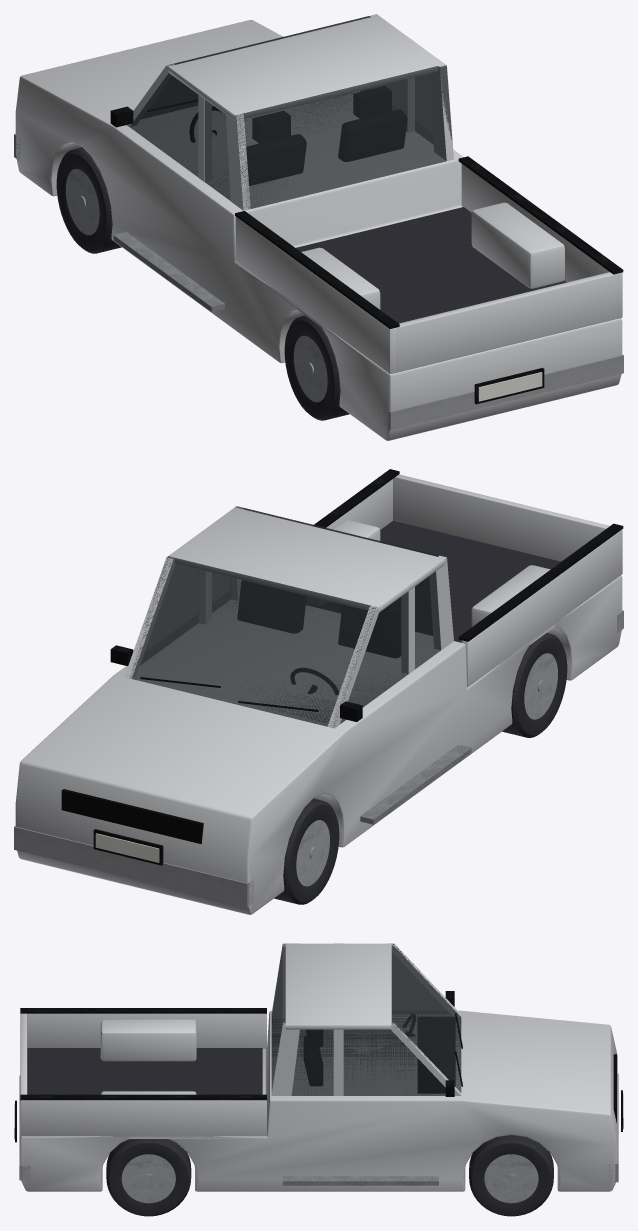
Rendered from pickup_silver.gltf.
The picture shows the model from 3 angles, top to bottom: view 1: azimuth 30°, elevation 25°; view 2: azimuth 150°, elevation 25°; view 3: azimuth 270°, elevation 25°; orthographic projection. The views are drawn at different scales.
Parts seen in each view (by area): view 1: pickup_silver; view 2: pickup_silver; view 3: pickup_silver.
Boxes of the visible parts, box(x1,y1,x2,y2) form: pickup_silver: box(14, 14, 623, 440); pickup_silver: box(14, 469, 623, 914); pickup_silver: box(14, 943, 623, 1216).
Bounding box in the file's own units: 2.14 × 1.86 × 5.47.
19 materials, 11 textured.
